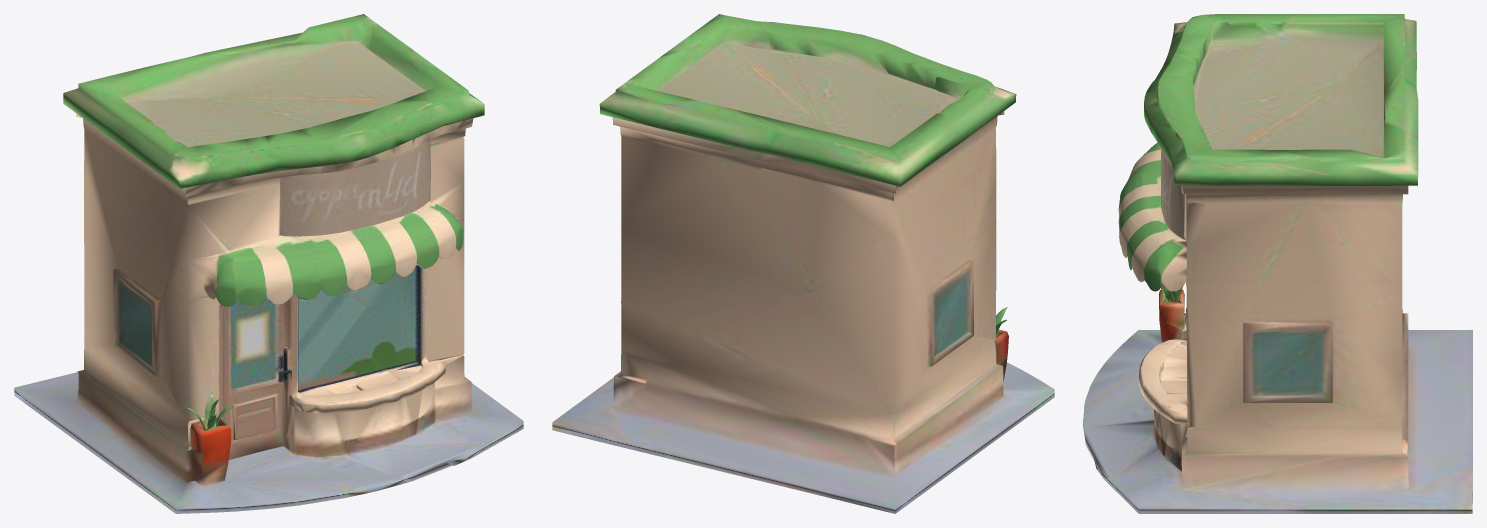
File: shop-corner-512-orig.glb
3 renders of one model, left to right at view 1: azimuth 30°, elevation 25°; view 2: azimuth 150°, elevation 25°; view 3: azimuth 270°, elevation 25°, orthographic. The views are drawn at different scales.
Size of the model in its own units: 1.9 by 1.72 by 1.78.
Materials: 1 (1 with a texture image).
